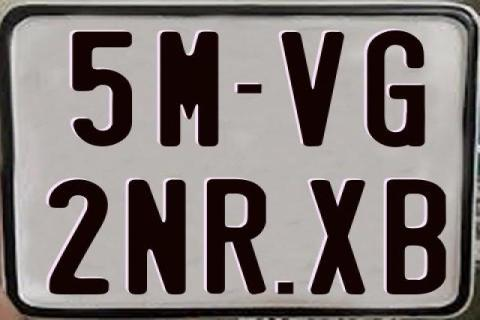0: (72, 29, 138, 149), (47, 177, 111, 293)
B: (385, 179, 444, 297)
G: (365, 29, 428, 151)
M: (159, 30, 220, 148)
N: (128, 180, 190, 300)
R: (207, 177, 267, 293)
V: (278, 30, 346, 148)
X: (307, 179, 368, 293)
